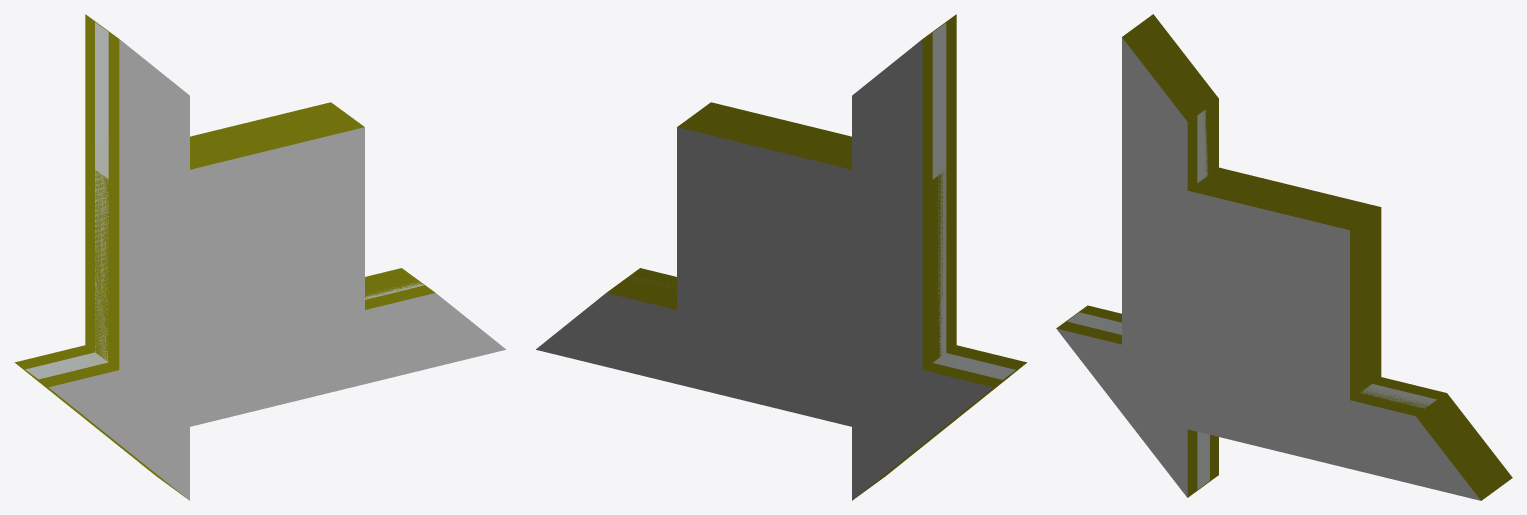
Rendered from idf.obj.
3 views of the same model, side by side, from view 1: azimuth 30°, elevation 25°; view 2: azimuth 150°, elevation 25°; view 3: azimuth 330°, elevation 25° (orthographic). The views are drawn at different scales.
Size of the model in its own units: 29.57 by 29.57 by 3.8.
